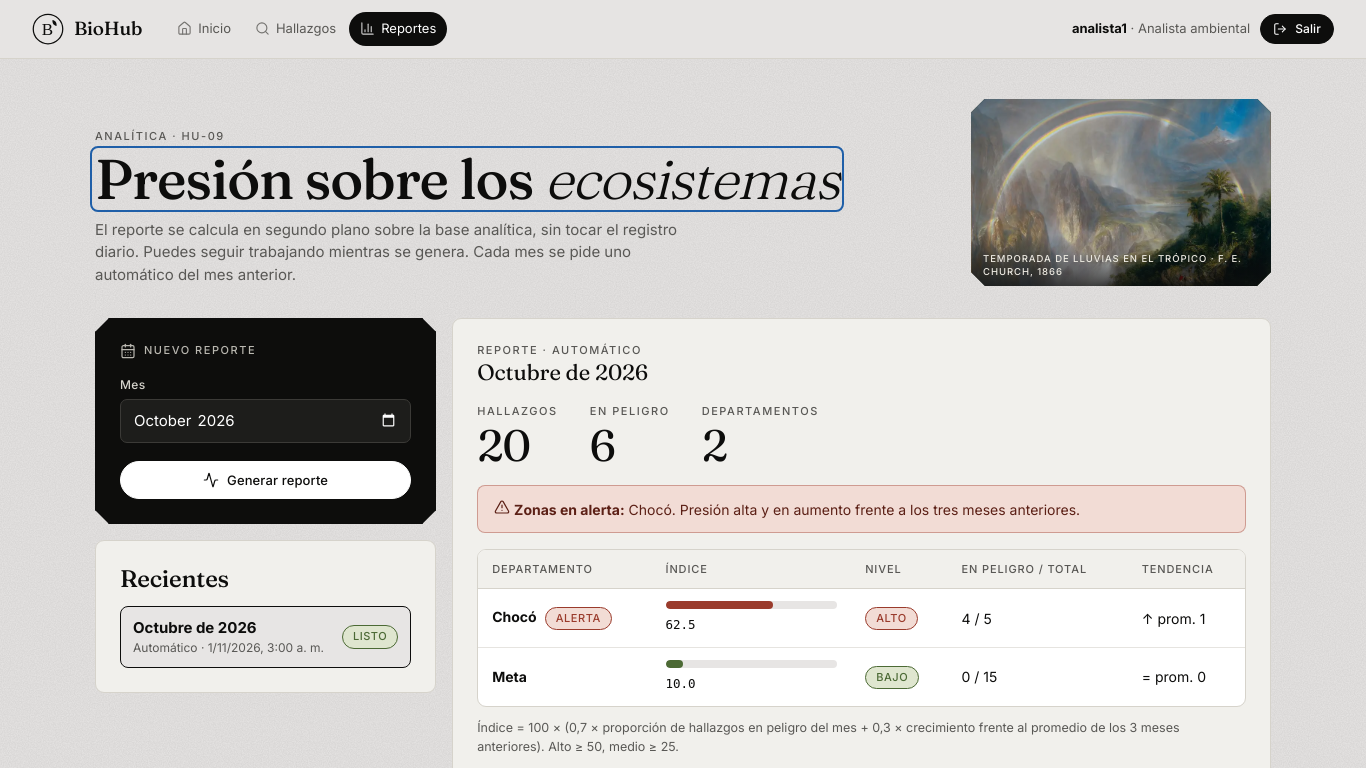
Test case: Reportes de presión (HU-09) › pide un reporte y consulta su estado cada 2 s hasta que queda listo, sin bloquear
Later steps or results of the test are not shown.
Expected: the table named "Índice de presión por departamento" is shown, x1=478 y1=550 x2=1245 y2=706
Step 1. Replace the text in the field labelled "Mes" with "2026-09" → [266, 421], box x1=120 y1=399 x2=411 y2=443
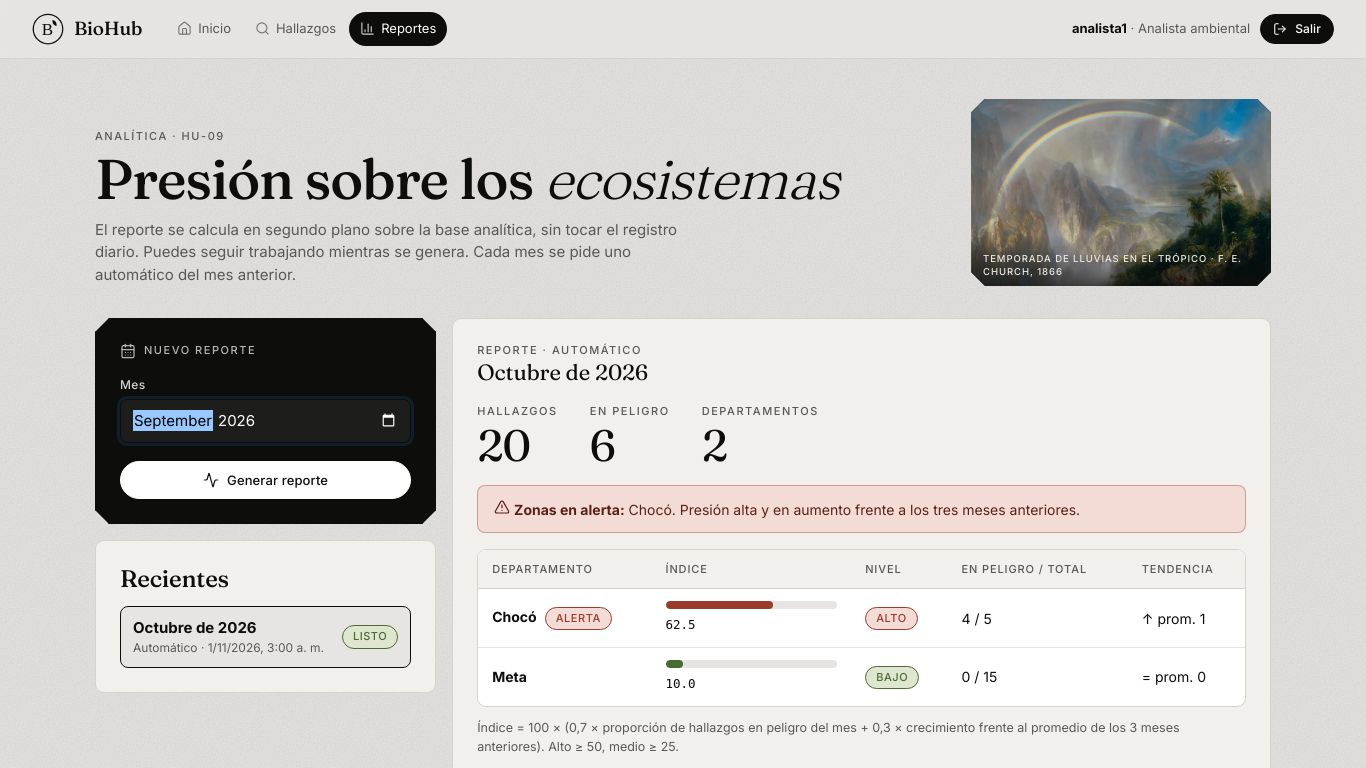
Step 2. Click the button "Generar reporte" → [266, 480], box x1=120 y1=461 x2=411 y2=499
Wait 2100 ms
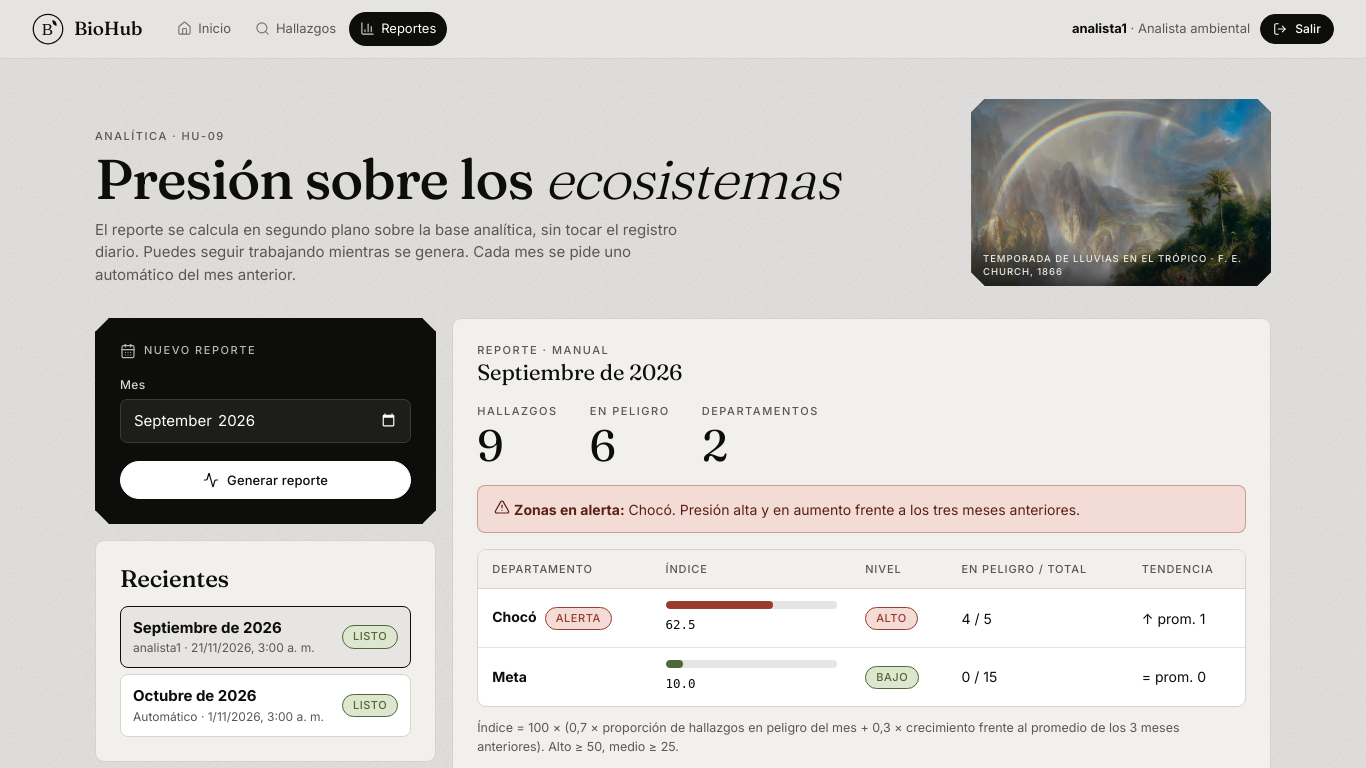
Now the text "9" is shown, box x1=477 y1=418 x2=503 y2=472
